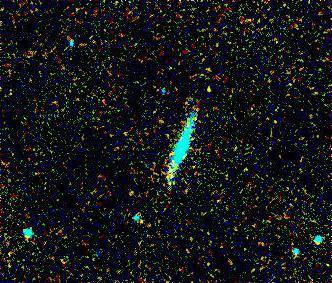star: (191, 79, 221, 109)
